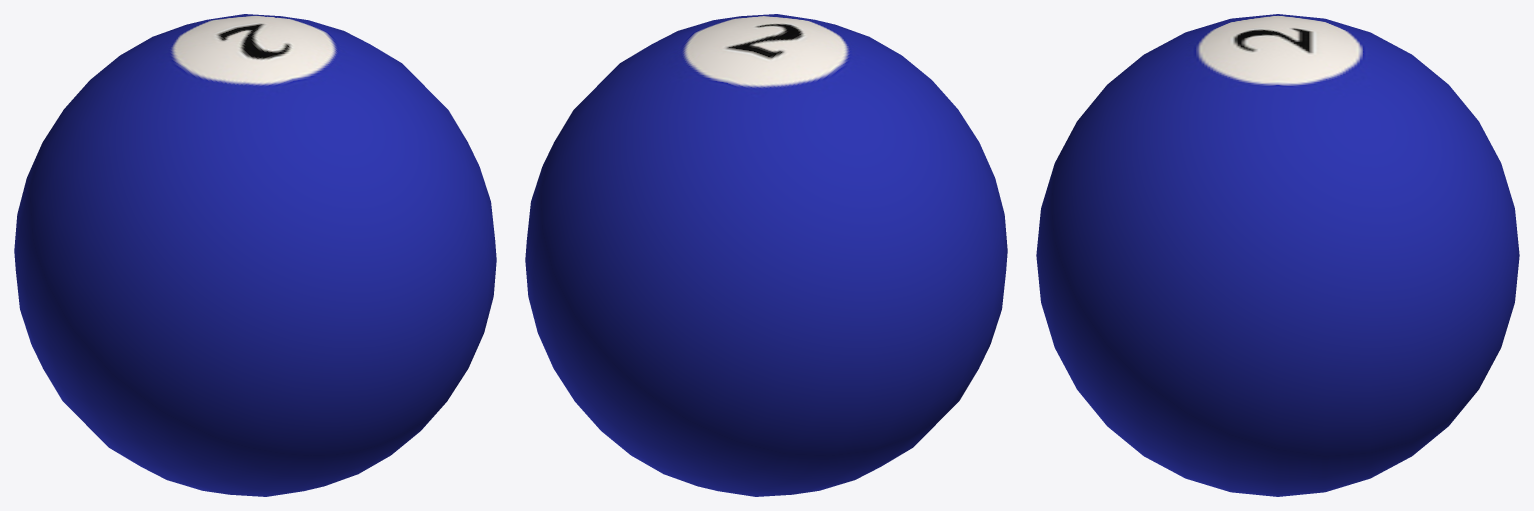
File: Billiard Ball 2.glb
3 views of the same model, side by side, from view 1: azimuth 30°, elevation 25°; view 2: azimuth 150°, elevation 25°; view 3: azimuth 270°, elevation 25° (orthographic).
Parts seen in each view (by area): view 1: Ball2_02 - Default_0; view 2: Ball2_02 - Default_0; view 3: Ball2_02 - Default_0.
Boxes of the visible parts, bbox=[...] form: Ball2_02 - Default_0: bbox=[14, 14, 496, 496]; Ball2_02 - Default_0: bbox=[525, 14, 1007, 496]; Ball2_02 - Default_0: bbox=[1036, 14, 1519, 496].
Bounding box in the file's own units: 37.86 × 37.86 × 37.86.
Materials: 1 (1 with a texture image).
